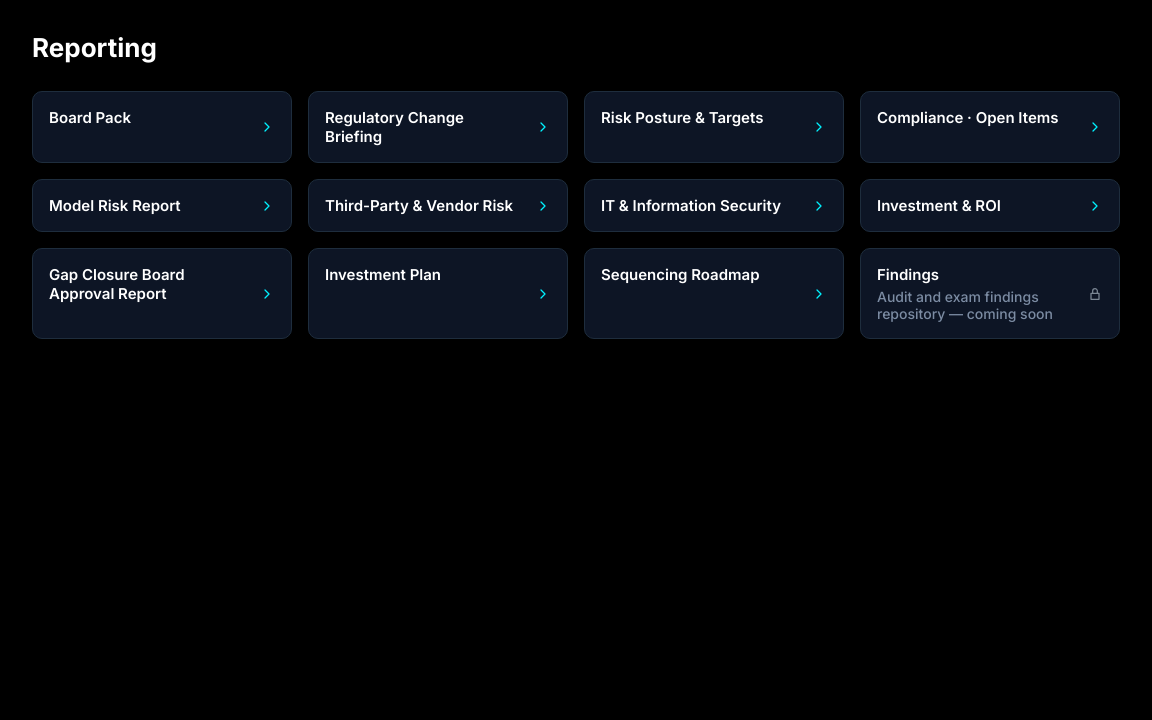
Test: Reporting index (base osReports 3710-3725 + openReport kinds 1474-1686) › pressing a card opens the shared drawer report with that report title (base openReport head(), 1474-1686)
The width and height of the screenshot is (1152, 720).
Click the button "Regulatory Change Briefing" at (438, 127), box [308, 91, 568, 163]
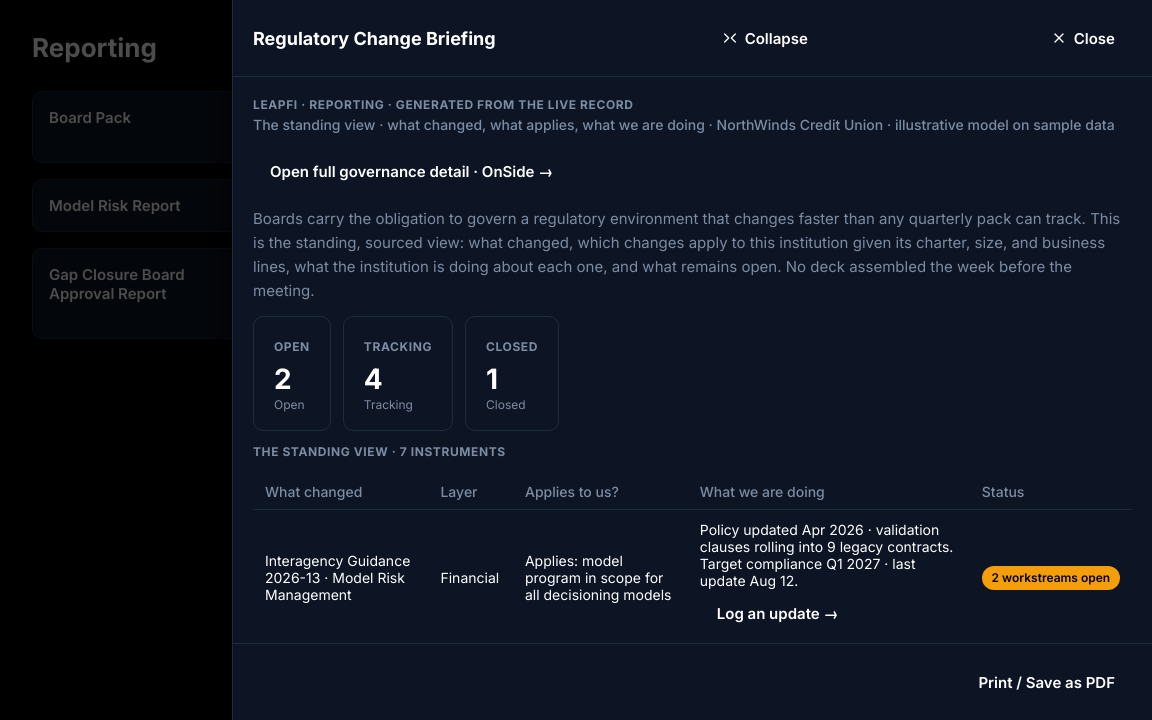
expect the heading "Regulatory Change Briefing" is shown: met, box [253, 28, 496, 48]
